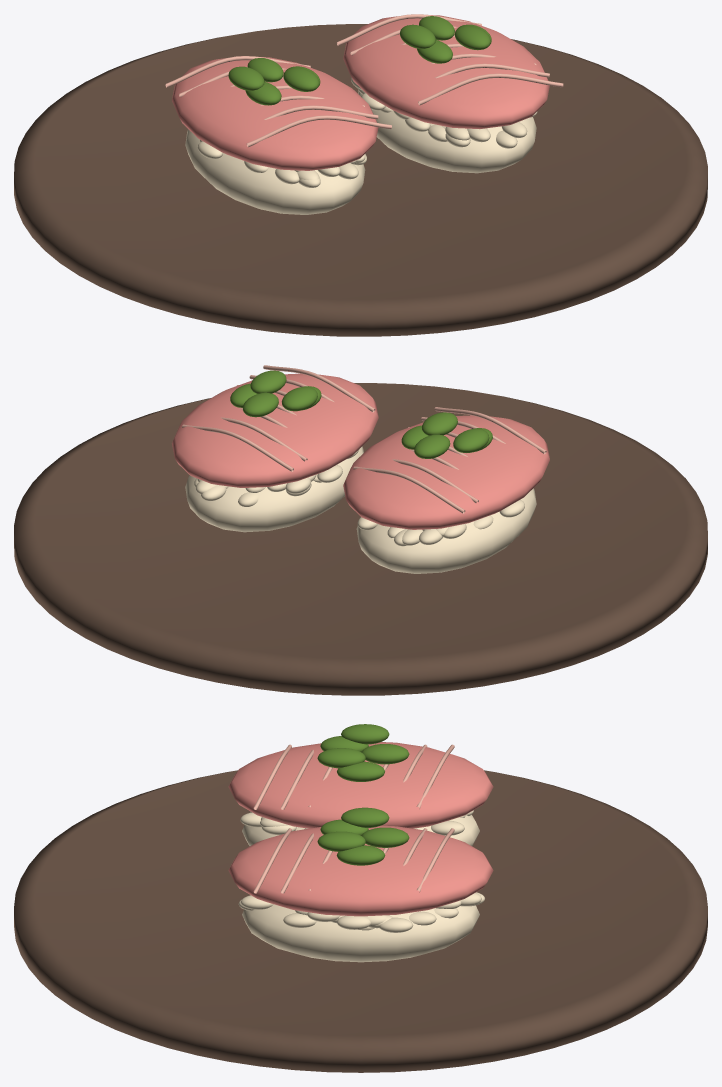
Rendered from 53-toro.glb.
3 renders of one model, top to bottom at view 1: azimuth 30°, elevation 25°; view 2: azimuth 150°, elevation 25°; view 3: azimuth 270°, elevation 25°, orthographic.
Visible parts, largest first — view 1: 오도로 초밥; view 2: 오도로 초밥; view 3: 오도로 초밥.
Part boxes in pixels (left/top/right/bottom): 오도로 초밥: left=14, top=14, right=707, bottom=336; 오도로 초밥: left=14, top=365, right=707, bottom=695; 오도로 초밥: left=14, top=724, right=707, bottom=1072.
Bounding box in the file's own units: 2 × 0.521 × 2.
